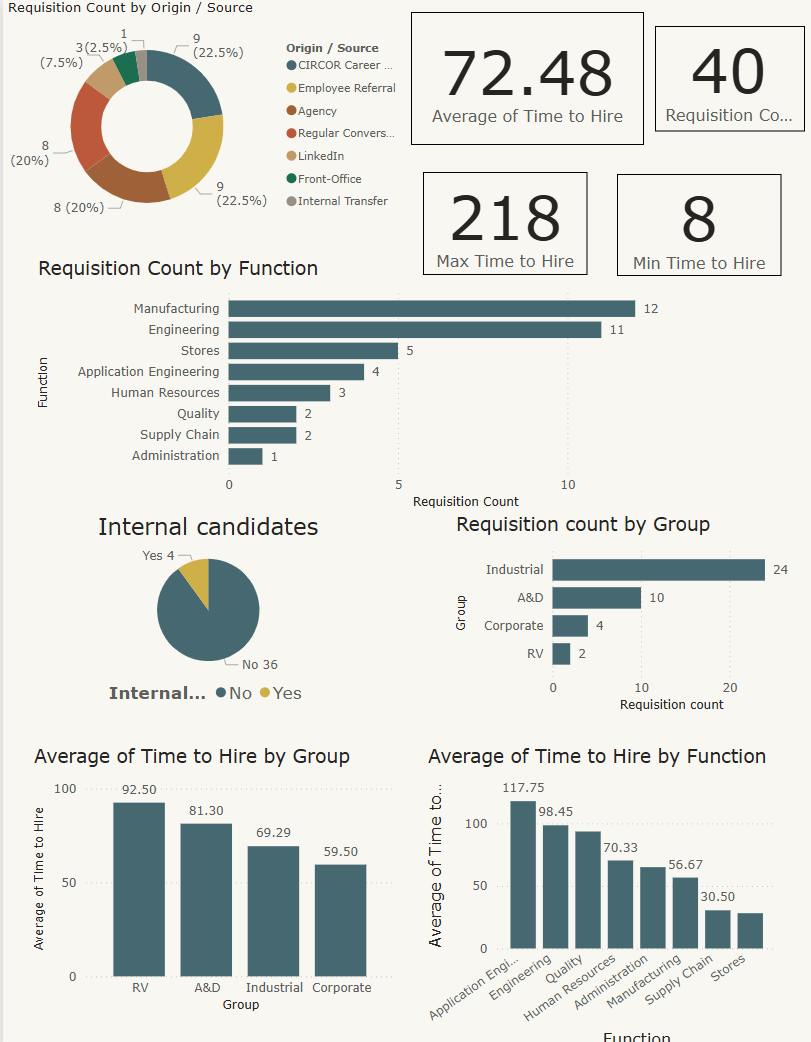

This screenshot's page, from the dashboard's own definition file:
{"tool":"powerbi","page":{"name":"Page 1","canvas":[816,1056],"ordinal":0},"visuals":[{"type":"donutChart","fields":{"Category":["Worksheet.Origin / Source"],"Y":["CountNonNull(Worksheet.Requisition ID)"]},"box":[0,0,407.9,240.5],"z":0},{"type":"pieChart","title":"Internal candidates","fields":{"Category":["Worksheet.Internal Candidate"],"Y":["CountNonNull(Worksheet.Requisition ID)"]},"box":[7.1,514.3,394.3,201.4],"z":1000},{"type":"barChart","fields":{"Y":["CountNonNull(Worksheet.Requisition ID)"],"Category":["Worksheet.Function"]},"box":[30,257.1,682.9,257.1],"z":2000},{"type":"barChart","fields":{"Category":["Worksheet.Group"],"Y":["CountNonNull(Worksheet.Requisition ID)"]},"box":[448.6,514.3,352.9,204.3],"z":3000},{"type":"columnChart","fields":{"Category":["Worksheet.Group"],"Y":["Avg(Worksheet.Time to Hire)"]},"box":[25.7,745.7,371.4,272.9],"z":4000},{"type":"card","fields":{"Values":["CountNonNull(Worksheet.Requisition ID)"]},"box":[651.4,28.6,150,105.7],"z":5000},{"type":"card","fields":{"Values":["Avg(Worksheet.Time to Hire)"]},"box":[408.6,14.3,232.9,132.9],"z":7000},{"type":"card","fields":{"Values":["Min(Worksheet.Time to Hire)"]},"box":[614.4,175.6,164.4,102.2],"z":8000},{"type":"card","fields":{"Values":["Max(Worksheet.Time to Hire)"]},"box":[420,174.3,164.3,102.9],"z":9000},{"type":"columnChart","fields":{"Category":["Worksheet.Function"],"Y":["Avg(Worksheet.Time to Hire)"]},"box":[420,745.7,358.6,310],"z":10000}]}

Visuals, with their boxes in screenshot pixels (x1, y1, x2, y2), scaled from the page's 816x1056 canvas onto the 811x1042 screenshot:
donutChart - Worksheet.Origin / Source x CountNonNull(Worksheet.Requisition ID): [left=0, top=0, right=405, bottom=237]
"Internal candidates" pieChart: [left=7, top=507, right=399, bottom=706]
barChart - CountNonNull(Worksheet.Requisition ID) x Worksheet.Function: [left=30, top=254, right=709, bottom=507]
barChart - Worksheet.Group x CountNonNull(Worksheet.Requisition ID): [left=446, top=507, right=797, bottom=709]
columnChart - Worksheet.Group x Avg(Worksheet.Time to Hire): [left=26, top=736, right=395, bottom=1005]
card - CountNonNull(Worksheet.Requisition ID): [left=647, top=28, right=796, bottom=133]
card - Avg(Worksheet.Time to Hire): [left=406, top=14, right=638, bottom=145]
card - Min(Worksheet.Time to Hire): [left=611, top=173, right=774, bottom=274]
card - Max(Worksheet.Time to Hire): [left=417, top=172, right=581, bottom=274]
columnChart - Worksheet.Function x Avg(Worksheet.Time to Hire): [left=417, top=736, right=774, bottom=1041]
